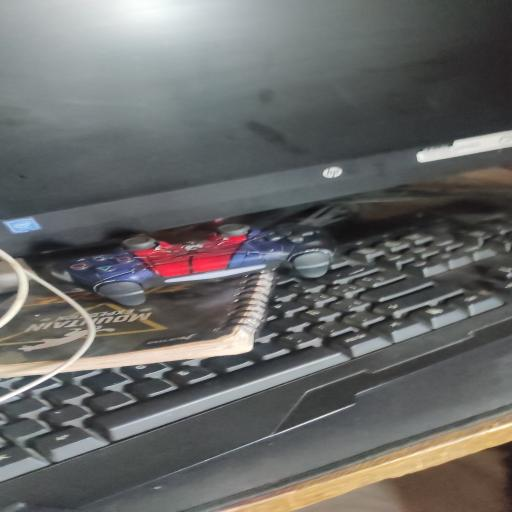ControlPlay4: (53, 224, 334, 305), (192, 255, 229, 272)
